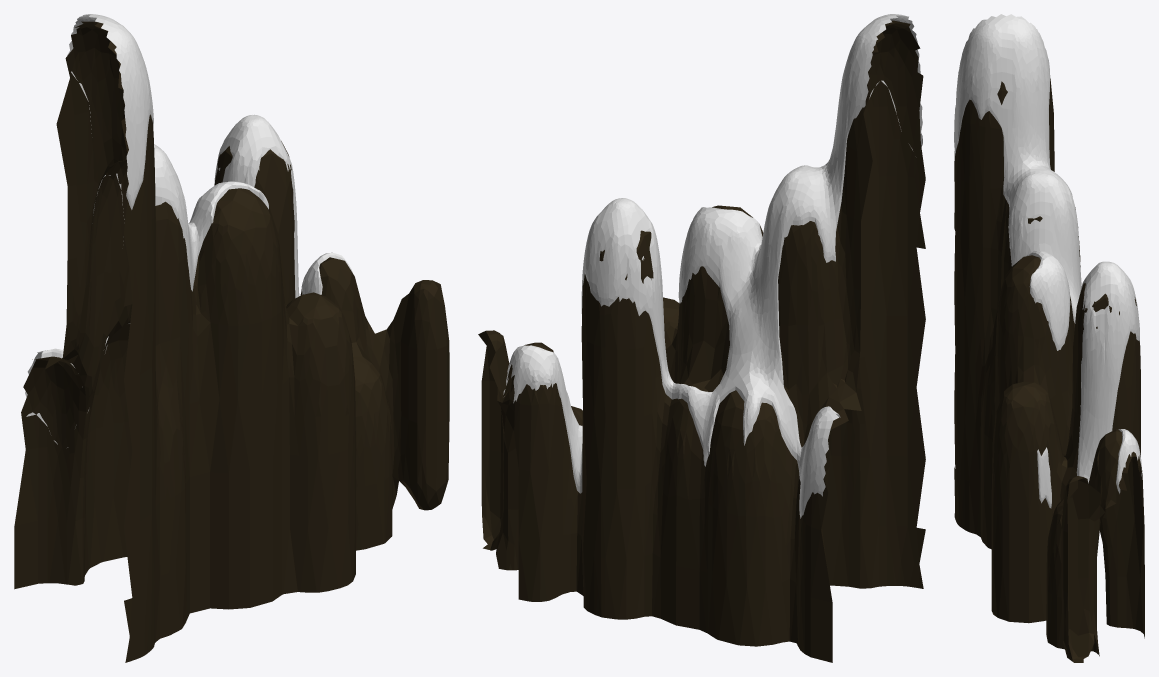
Rendered from Mtn_Wall_E3.fbx.
3 views of the same model, side by side, from view 1: azimuth 30°, elevation 25°; view 2: azimuth 150°, elevation 25°; view 3: azimuth 270°, elevation 25° (orthographic). The views are drawn at different scales.
Visible parts, largest first — view 1: Mtn_Wall_E3; view 2: Mtn_Wall_E3; view 3: Mtn_Wall_E3.
Boxes of the visible parts, bbox=[...] form: Mtn_Wall_E3: bbox=[14, 14, 449, 662]; Mtn_Wall_E3: bbox=[478, 14, 925, 662]; Mtn_Wall_E3: bbox=[954, 14, 1144, 662].
Size of the model in its own units: 18923 by 27950 by 9618.
